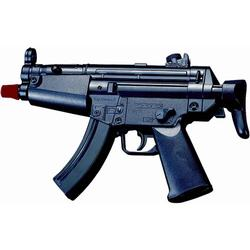rifle: (2, 30, 246, 219)
